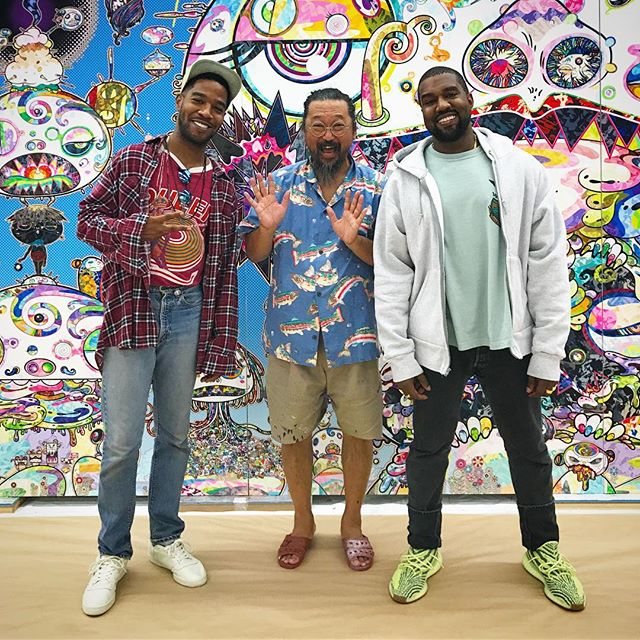Yeezy Semi-Frozen: (518, 532, 595, 623), (381, 535, 453, 608)
